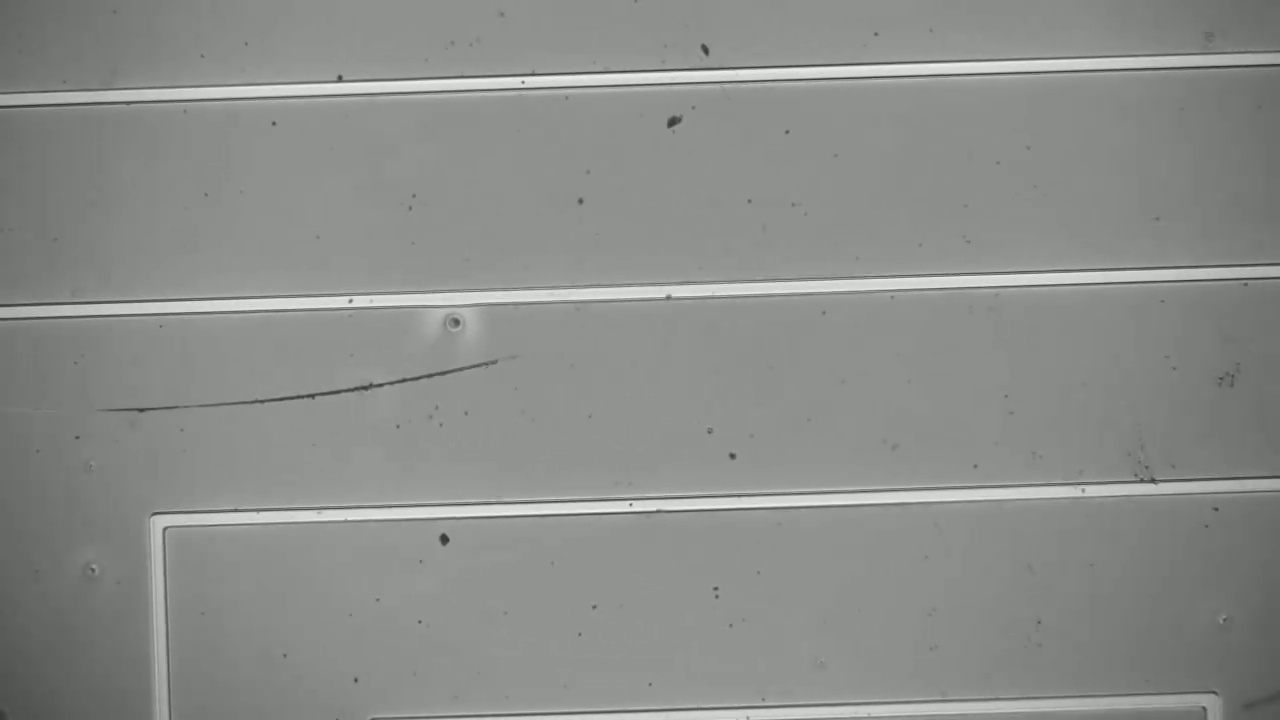scratch: (92, 356, 534, 421)
